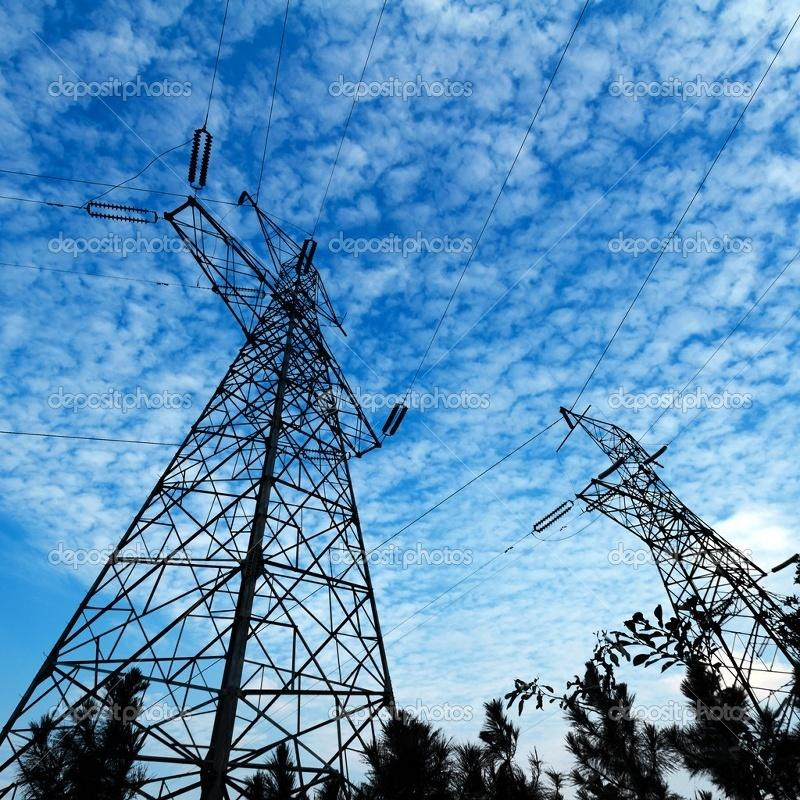power_tower: (15, 115, 453, 793), (532, 397, 792, 789)
